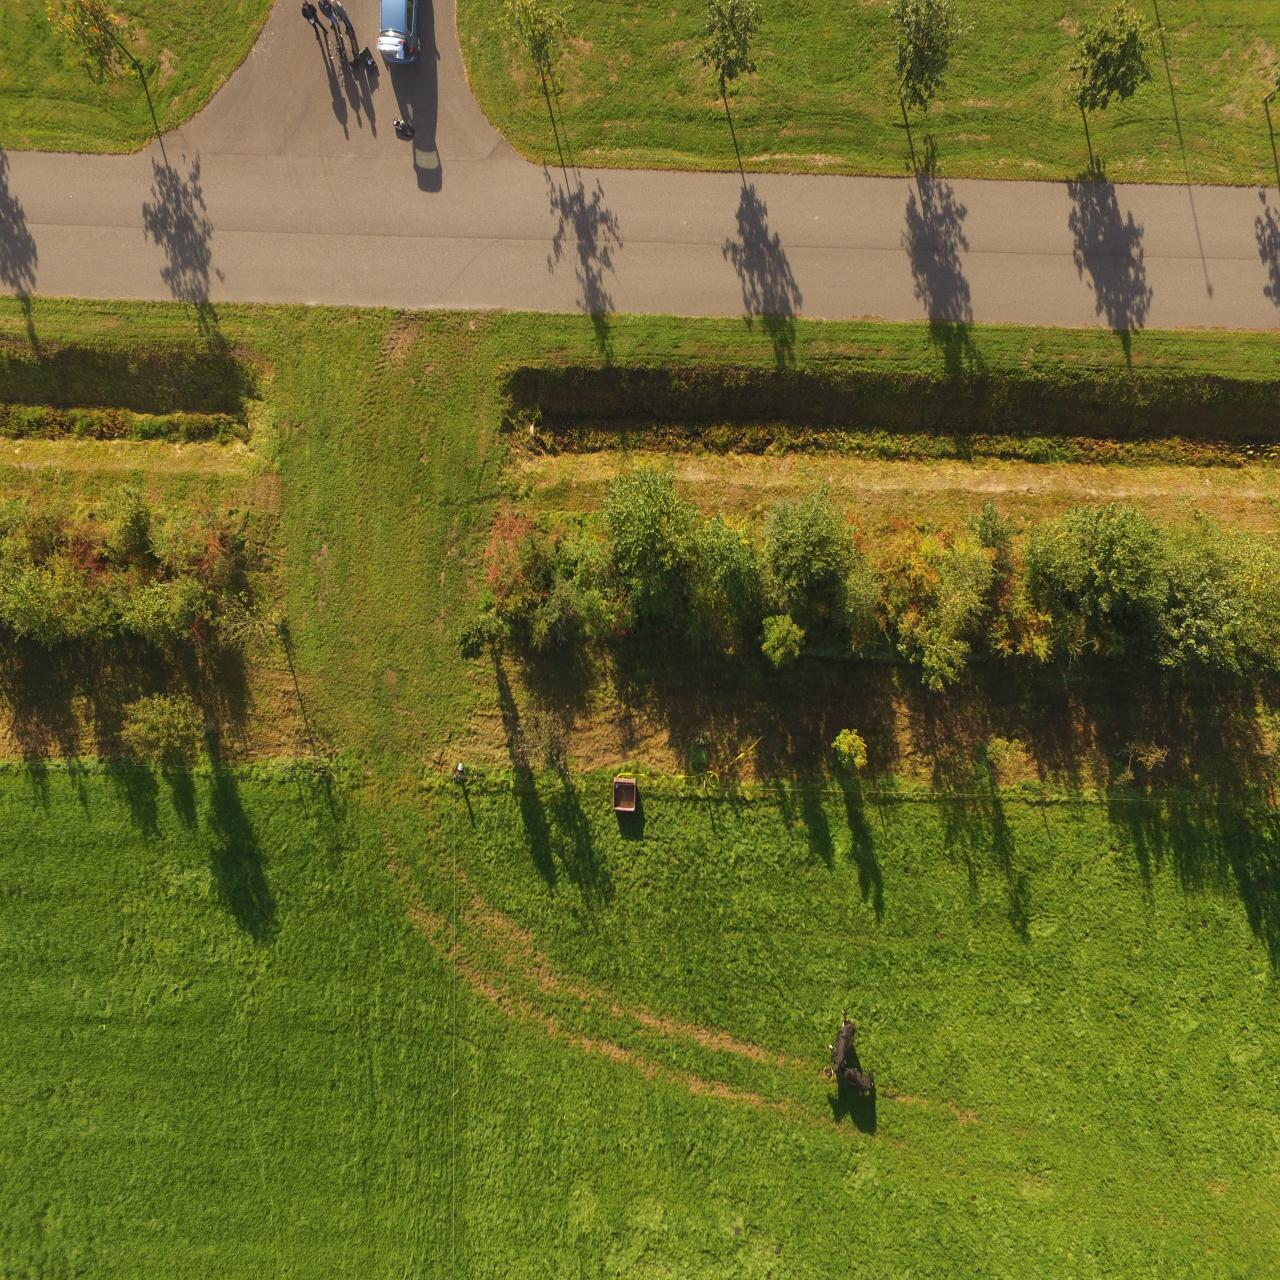cow: (812, 1009, 858, 1081), (836, 1054, 876, 1098)
